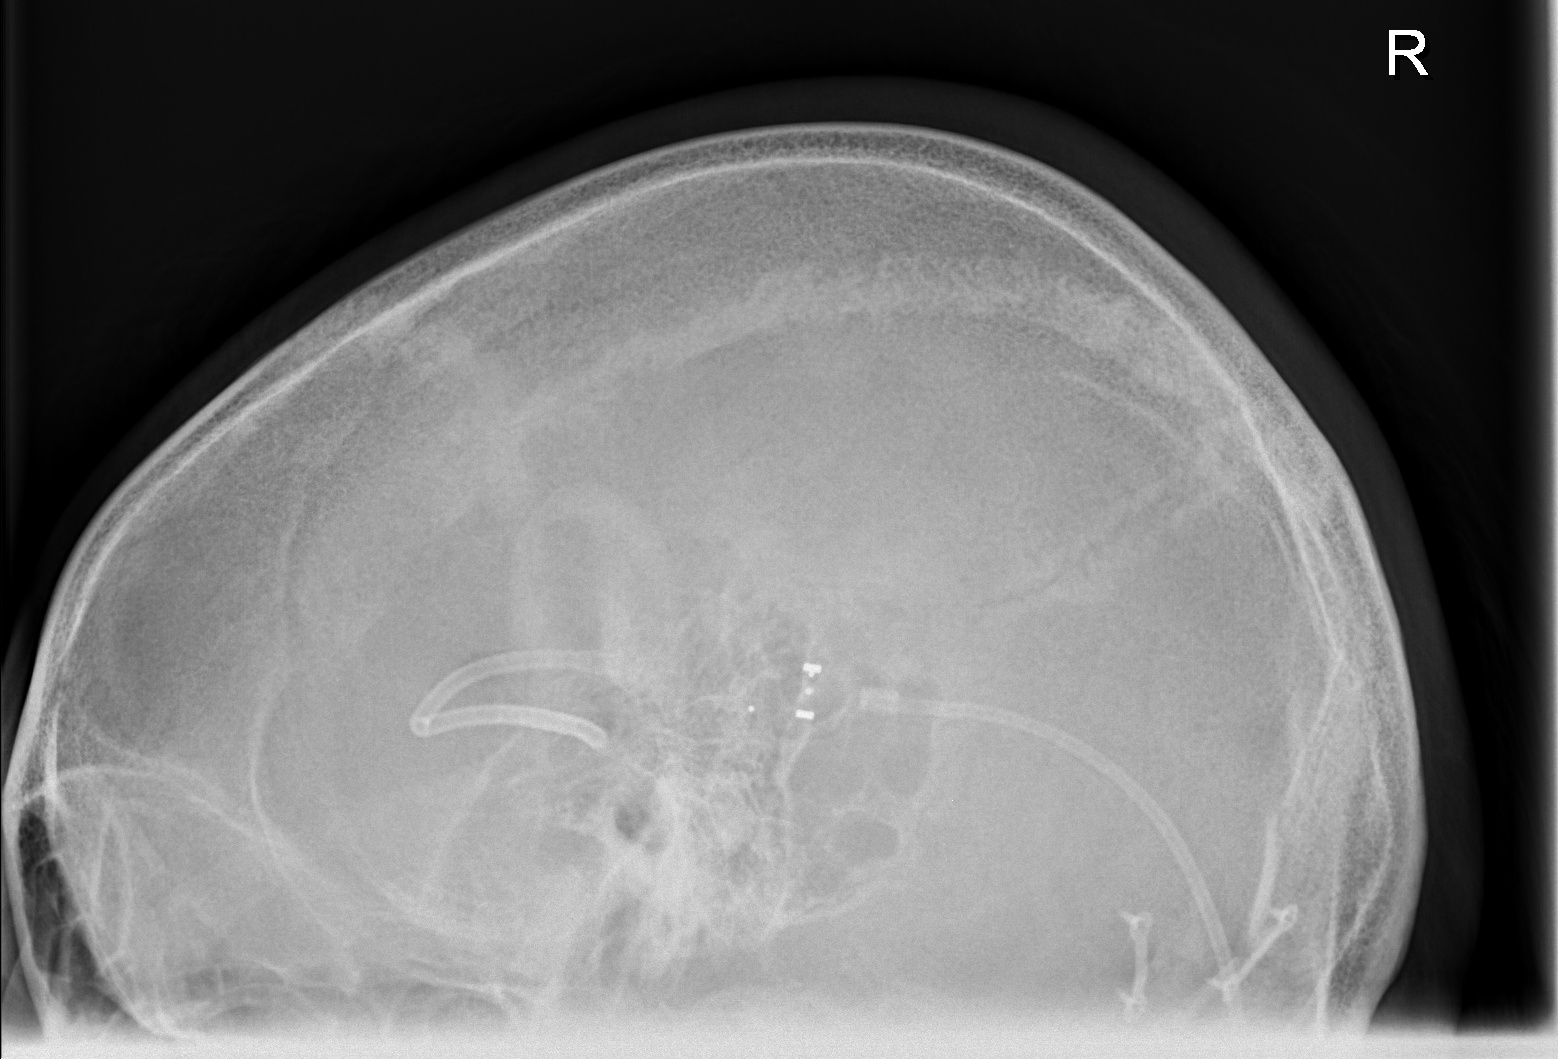Codman Certas: (729, 652, 861, 747)
